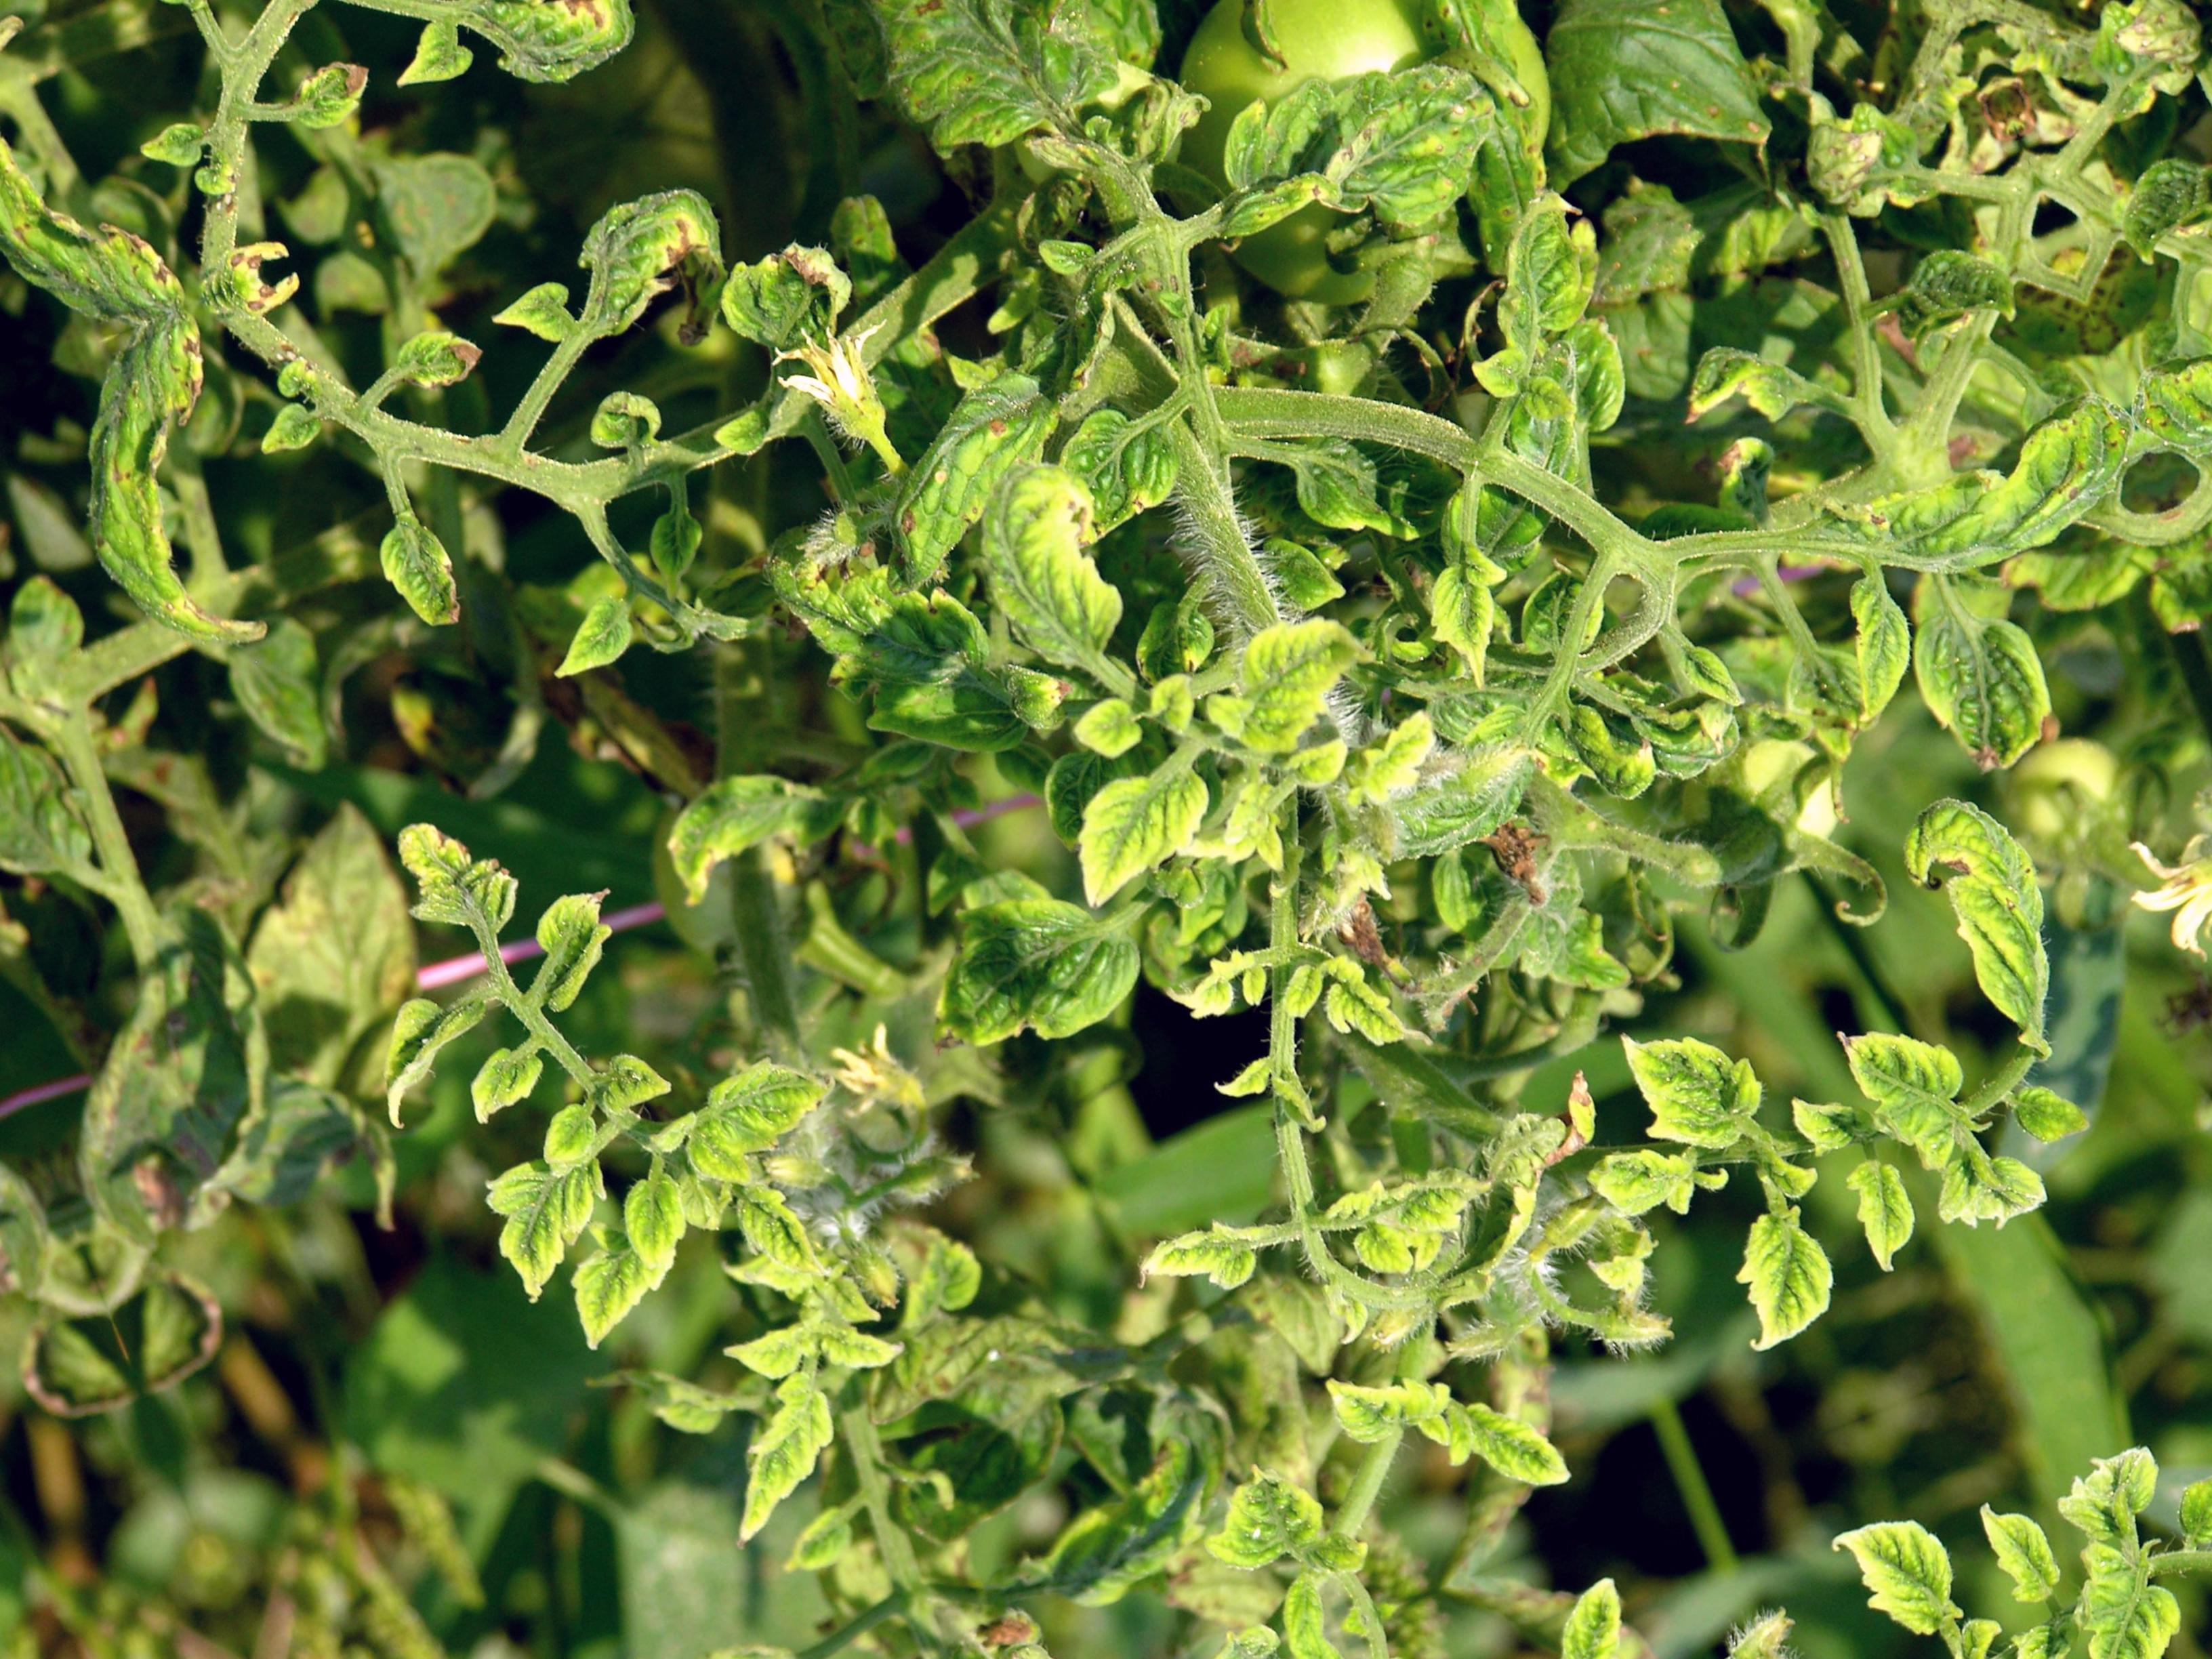Tomato leaf yellow virus: (1144, 0, 1611, 312), (0, 300, 310, 664), (850, 826, 1183, 1105), (1111, 570, 1426, 840), (1414, 119, 1670, 425), (819, 343, 1103, 617), (1876, 756, 2102, 1063), (510, 146, 773, 385), (1806, 964, 2033, 1220), (432, 1054, 664, 1304), (944, 441, 1155, 690), (1022, 725, 1258, 948), (1575, 960, 1789, 1195), (1879, 556, 2078, 791), (1693, 1175, 1892, 1387), (362, 765, 564, 971), (685, 1359, 894, 1554), (1292, 1150, 1510, 1314), (1151, 1434, 1346, 1608), (1101, 1169, 1282, 1333), (1353, 0, 1646, 98), (550, 1213, 704, 1352), (1303, 1324, 1442, 1466)
